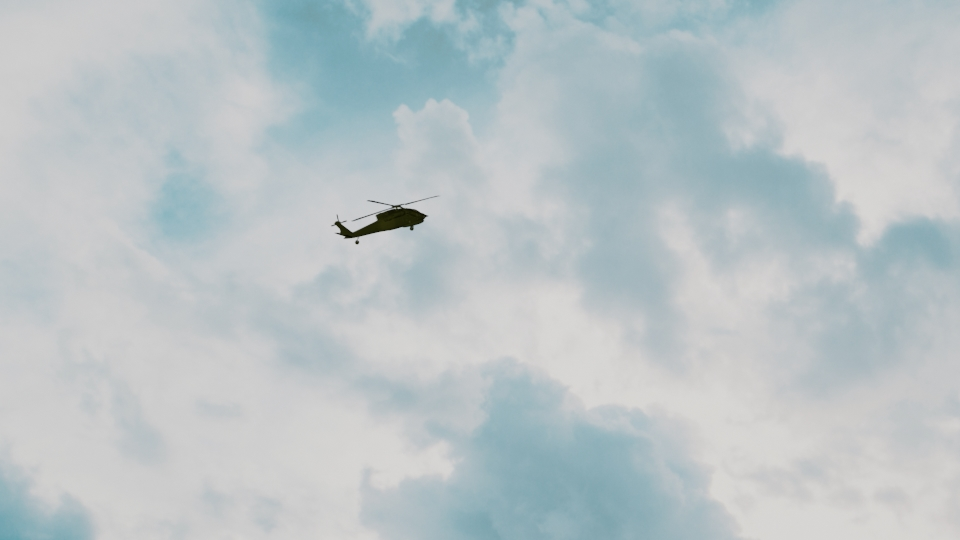heli: (331, 193, 438, 245)
